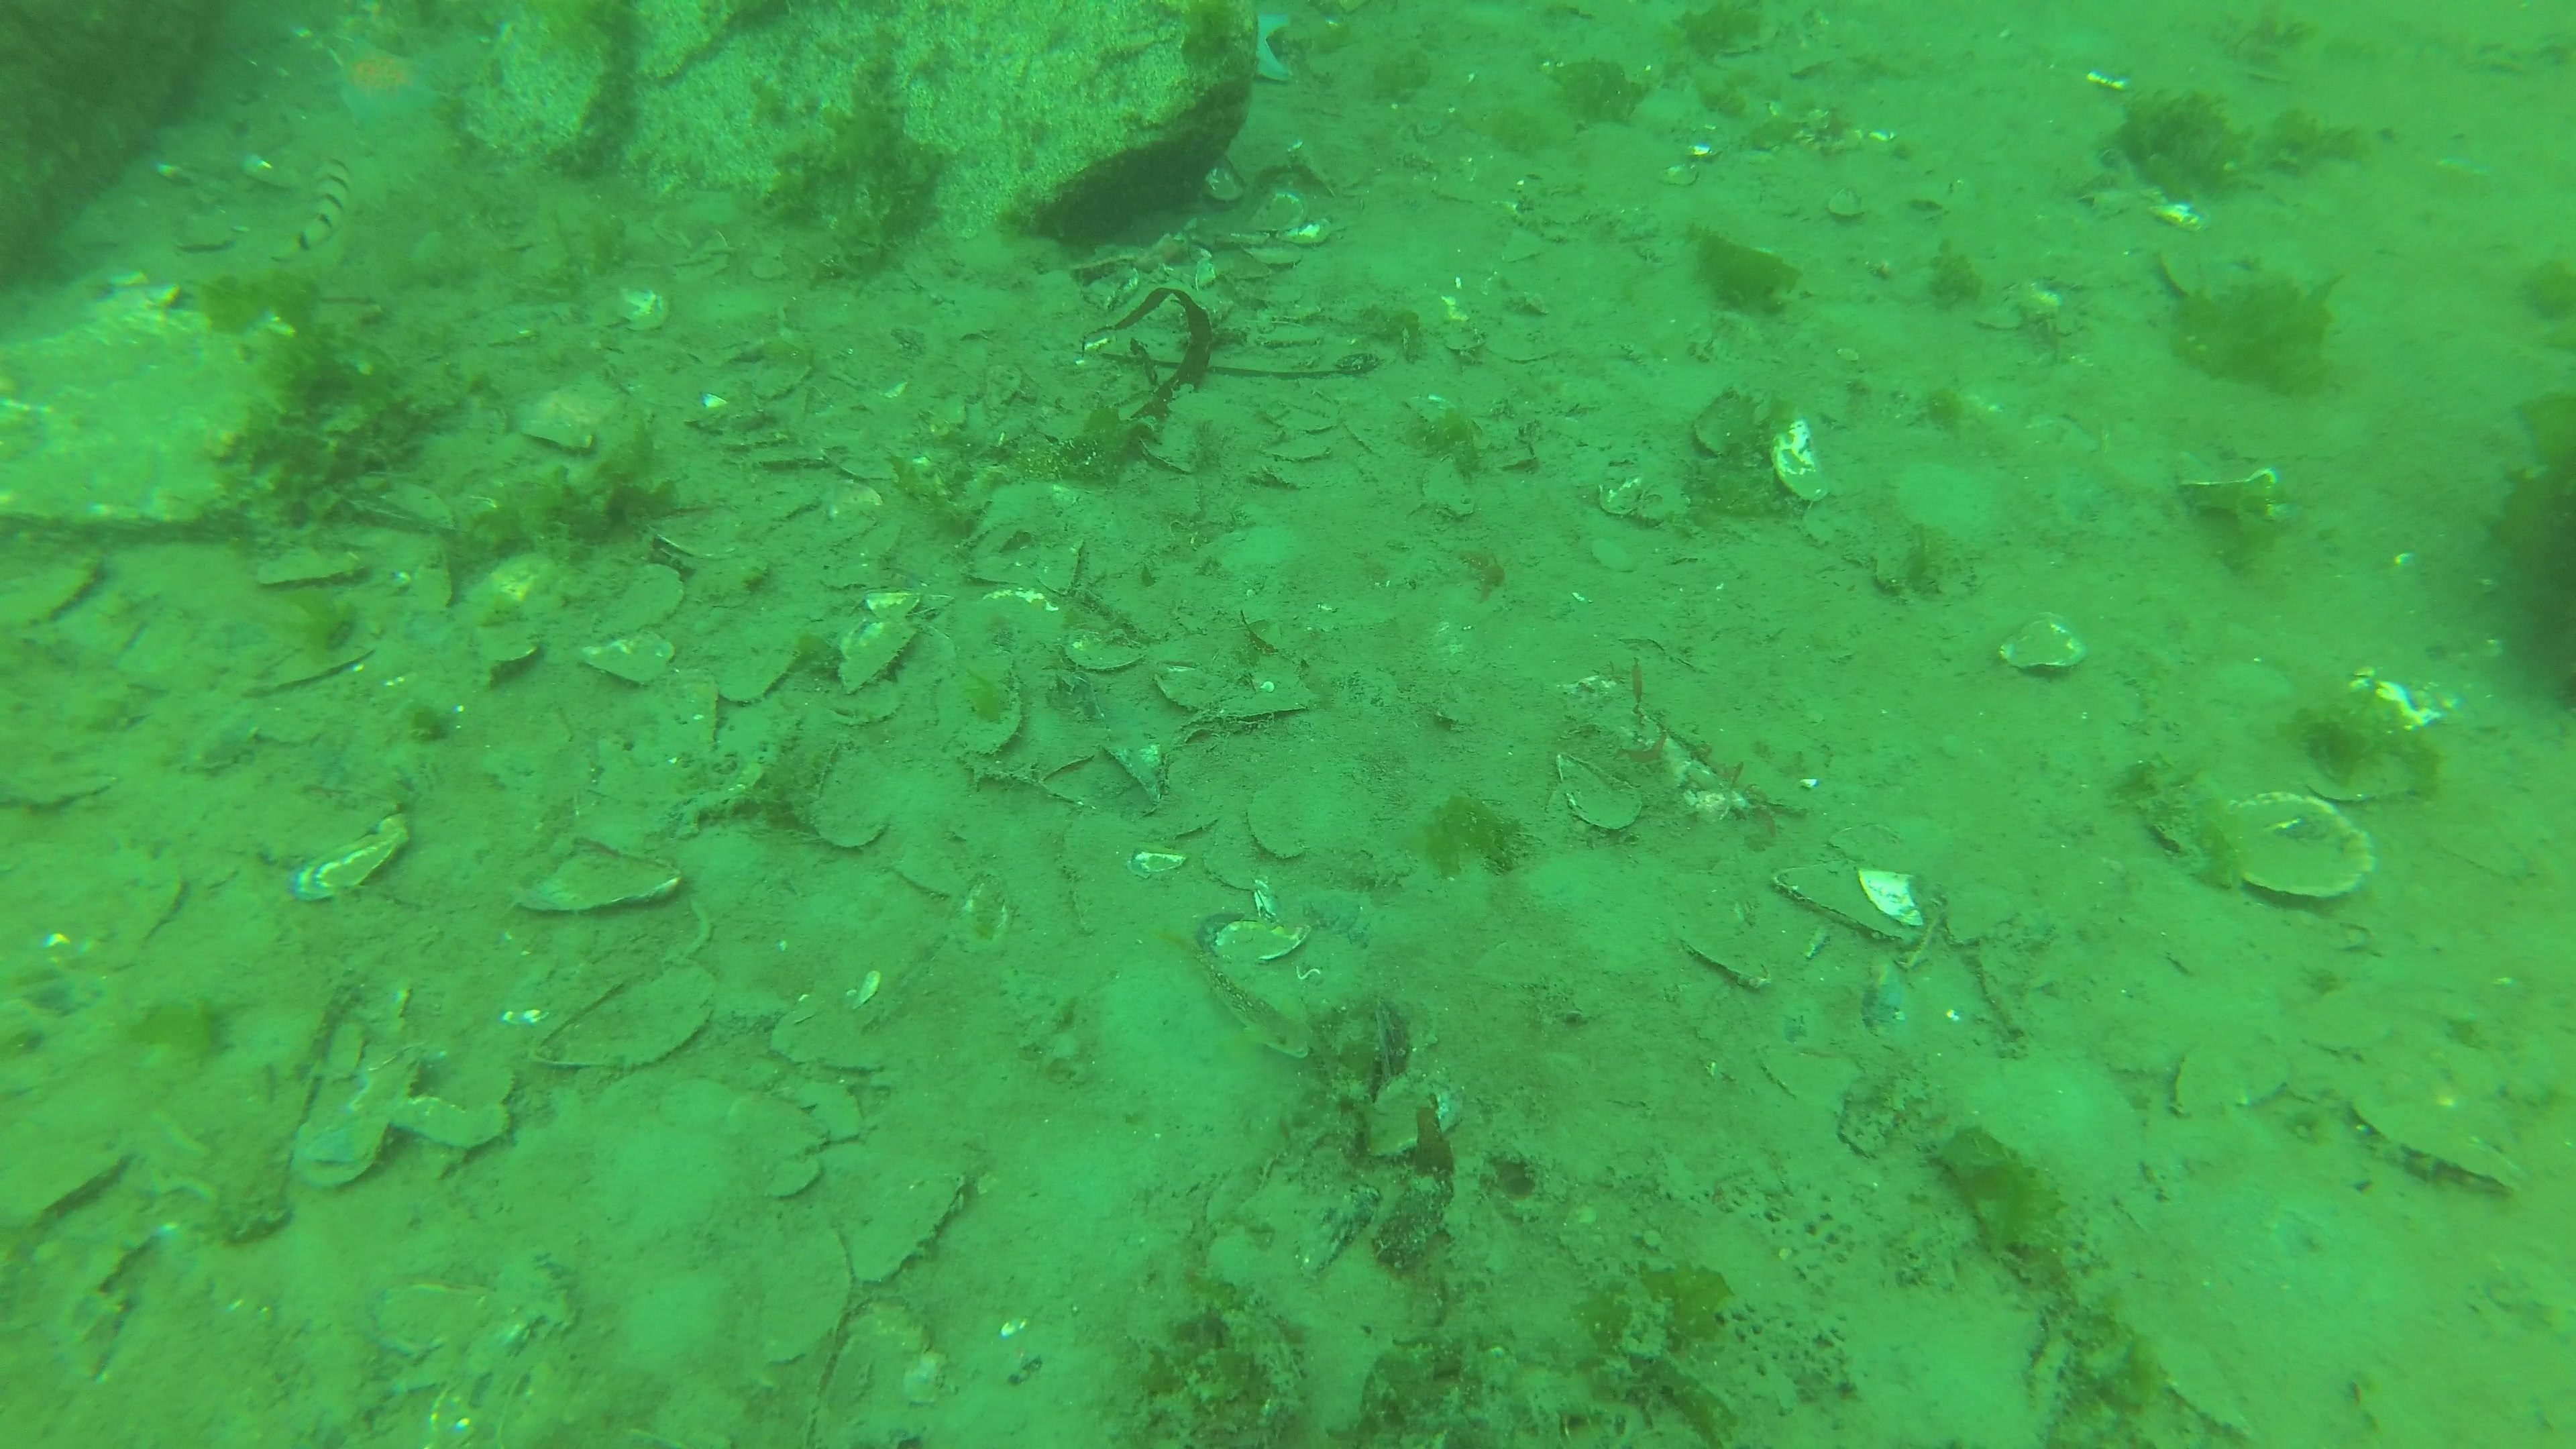starfish: (311, 44, 458, 134)
